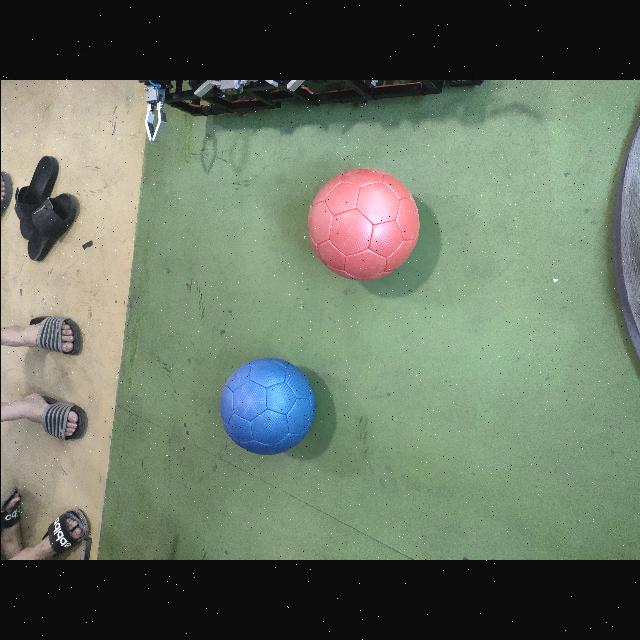B: (220, 357, 319, 456)
R: (308, 167, 423, 282)
